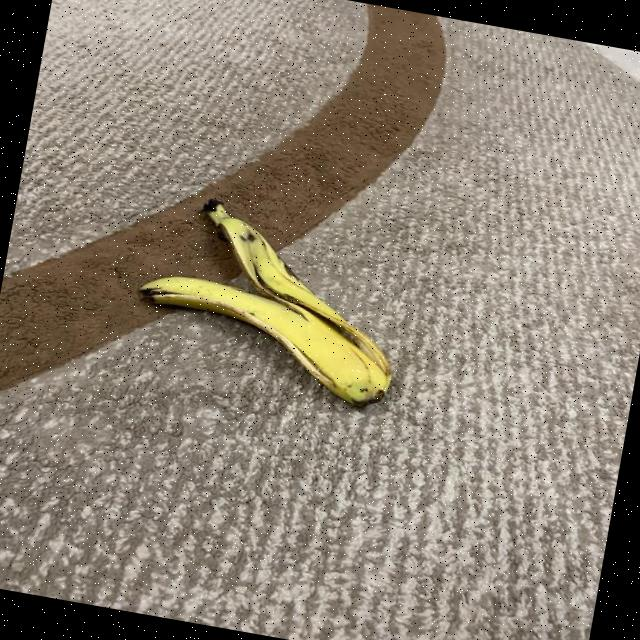banana-peel: (123, 186, 417, 412)
